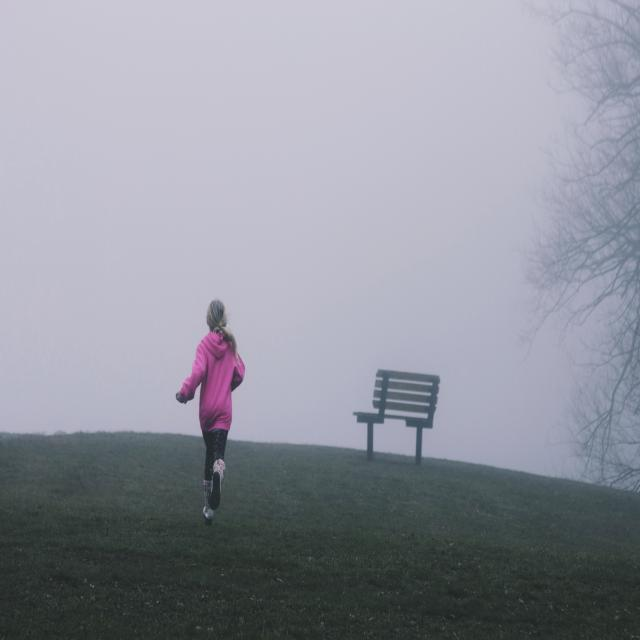adult: (175, 298, 245, 520)
